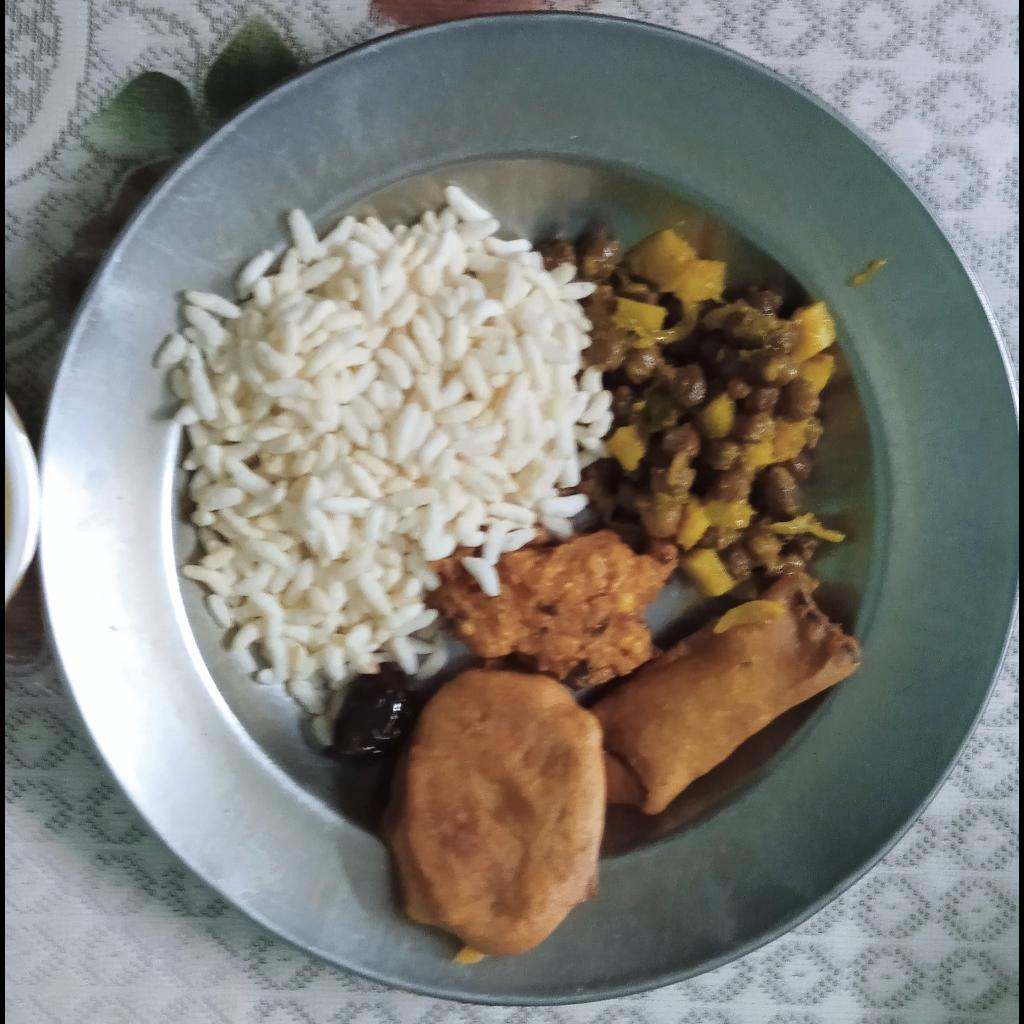beguni: (589, 574, 861, 815)
chola: (538, 230, 836, 601)
chop-alu: (383, 668, 605, 955)
dates: (325, 672, 418, 765)
piyaju: (430, 532, 678, 690)
puffed-rice: (152, 188, 605, 737)
